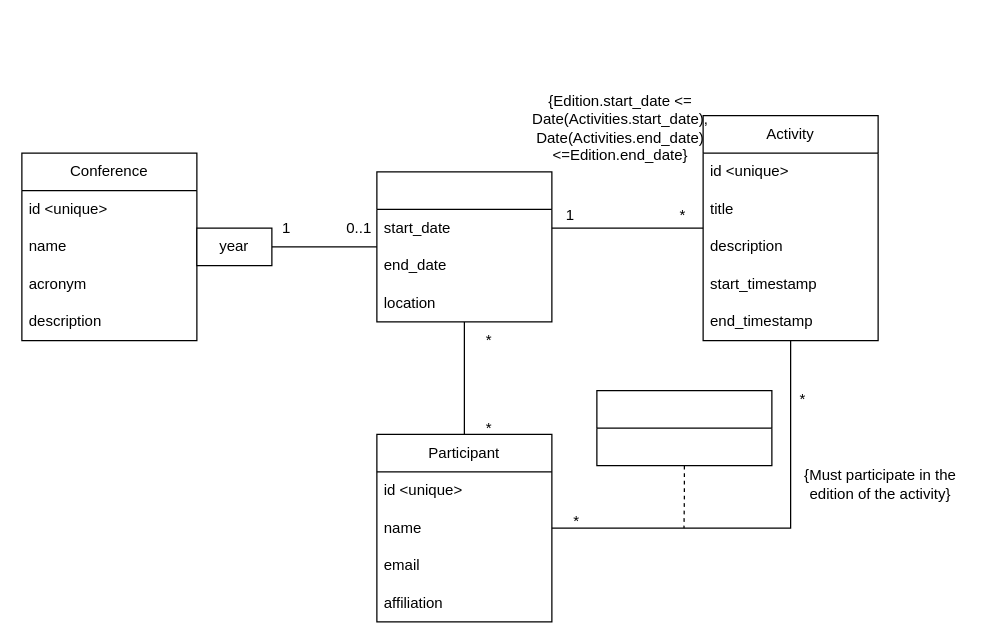
This 990x644 diagram has some shape labels left out. Here are the shapes that lost their labels. From the top down, the box of each, then its label:
(376, 171, 552, 322): Edition
(596, 389, 772, 466): role
